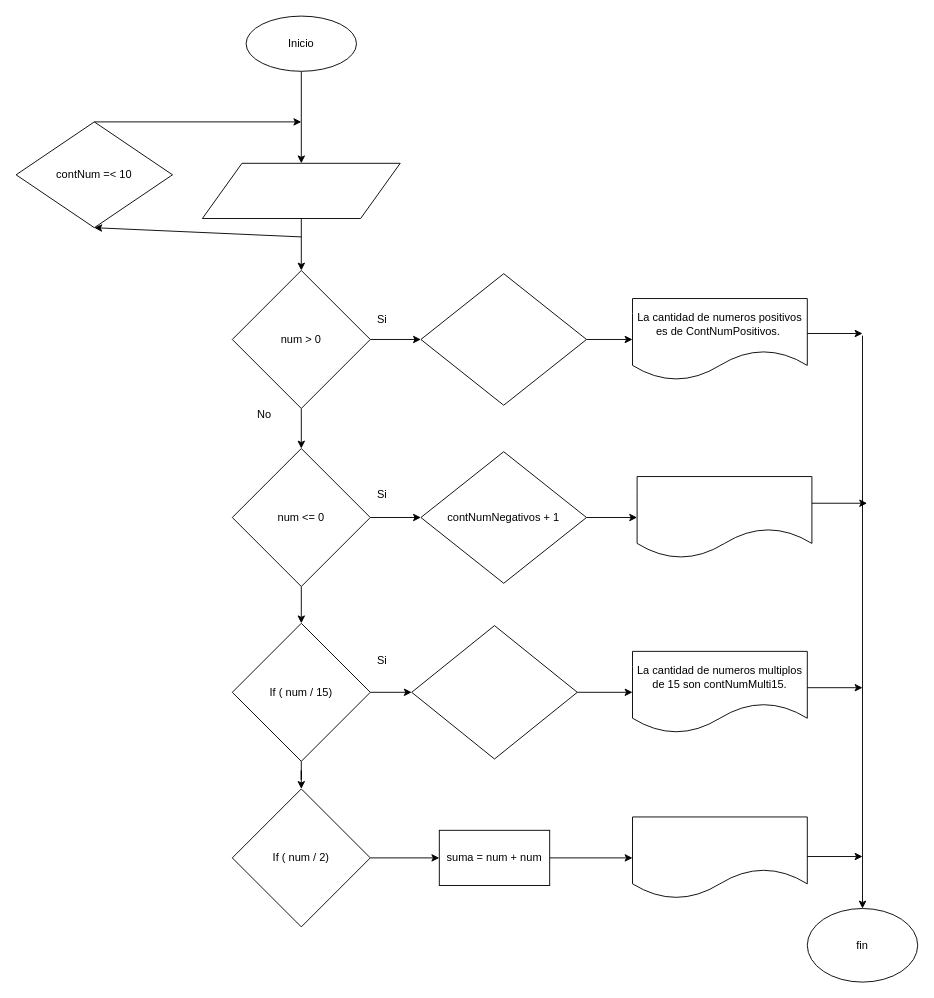
Image size: 934x998. Some labels were removed from this diagram. The shapes that lost their labels are listed below. From the top down, each one's box as (x1, y1, x2, y2) in pixels, then its label:
(201, 162, 400, 218): num
(420, 273, 586, 405): contNumPositivos + 1
(636, 476, 812, 558): La cantidad de numeros Negativos es de ContNumNegativos.
(411, 625, 577, 759): contNumMulti15
(632, 816, 807, 899): El valor acumulado de los numeros pares es de suma.
